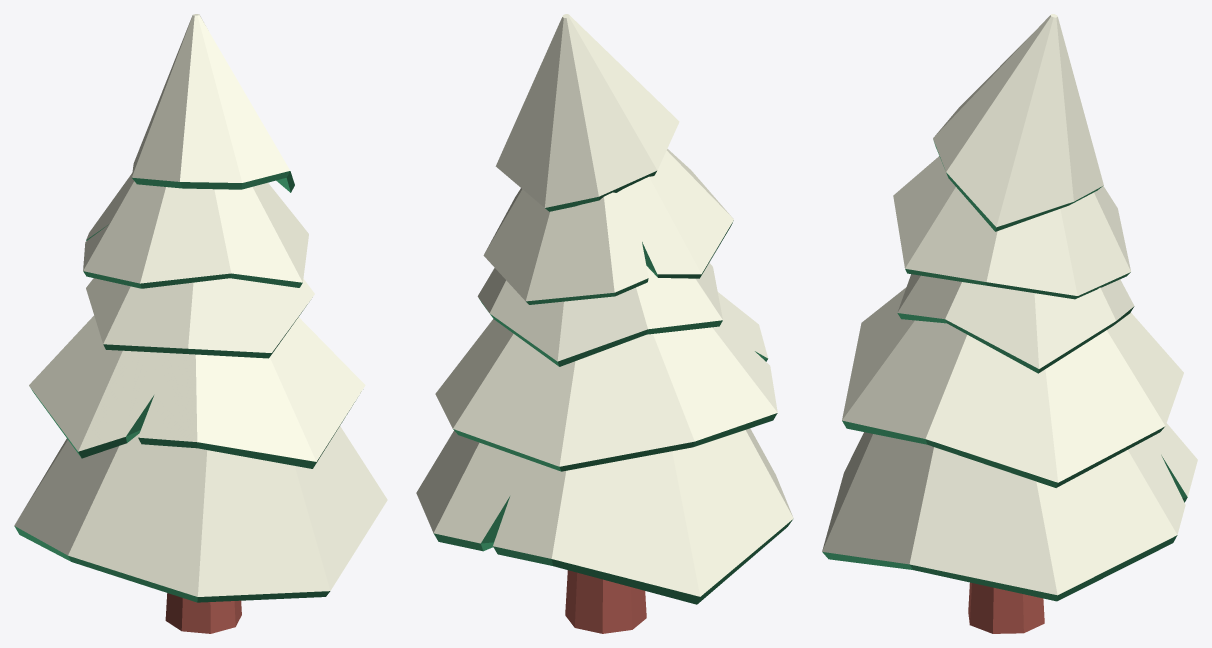
File: Tree2_small_winter.FBX
3 views of the same model, side by side, from view 1: azimuth 30°, elevation 25°; view 2: azimuth 150°, elevation 25°; view 3: azimuth 270°, elevation 25° (orthographic). The views are drawn at different scales.
Parts seen in each view (by area): view 1: Tree 2 small.002; view 2: Tree 2 small.002; view 3: Tree 2 small.002.
Boxes of the visible parts, x1,y1,x2,y2 form: Tree 2 small.002: (14, 14, 387, 633); Tree 2 small.002: (416, 14, 793, 633); Tree 2 small.002: (822, 14, 1197, 633).
Size of the model in its own units: 1.52 by 2.71 by 1.51.
